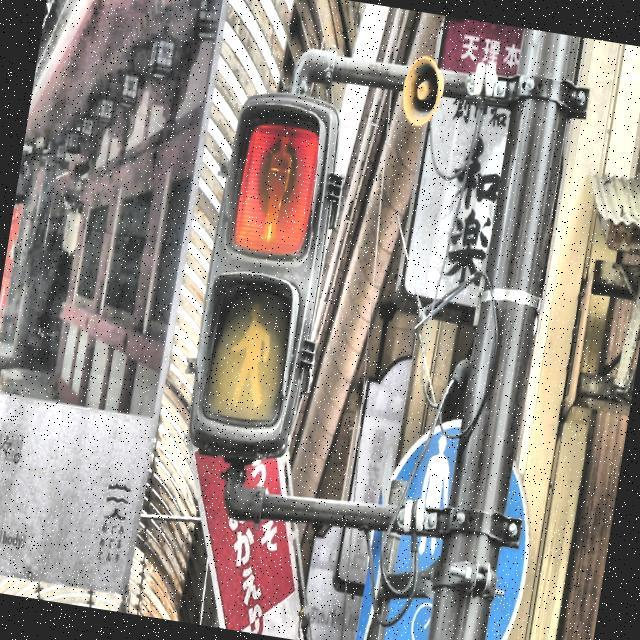red_light: (253, 126, 300, 248)
